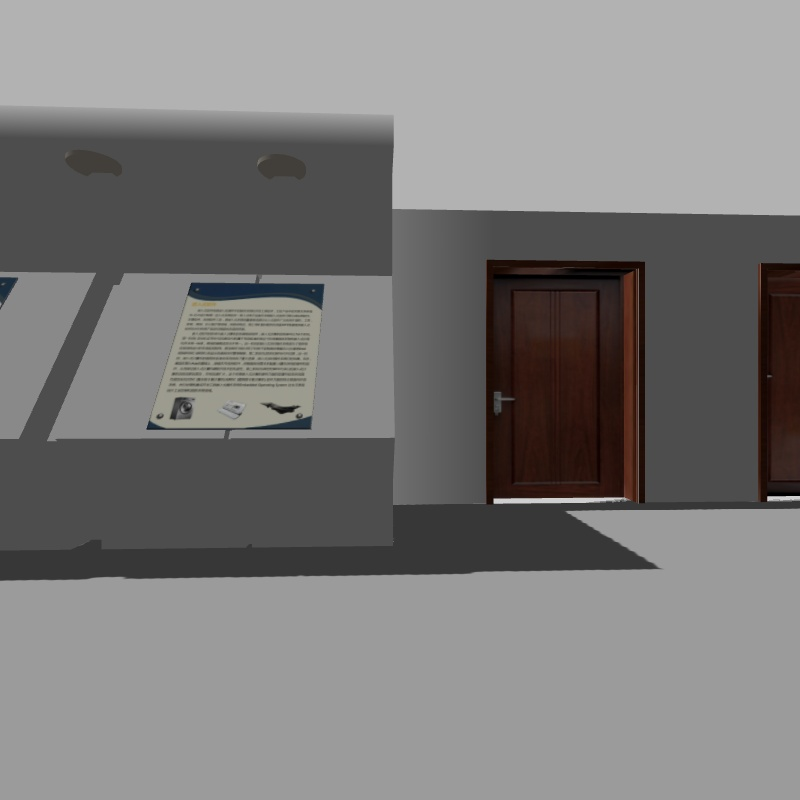handle: (487, 384, 520, 416)
